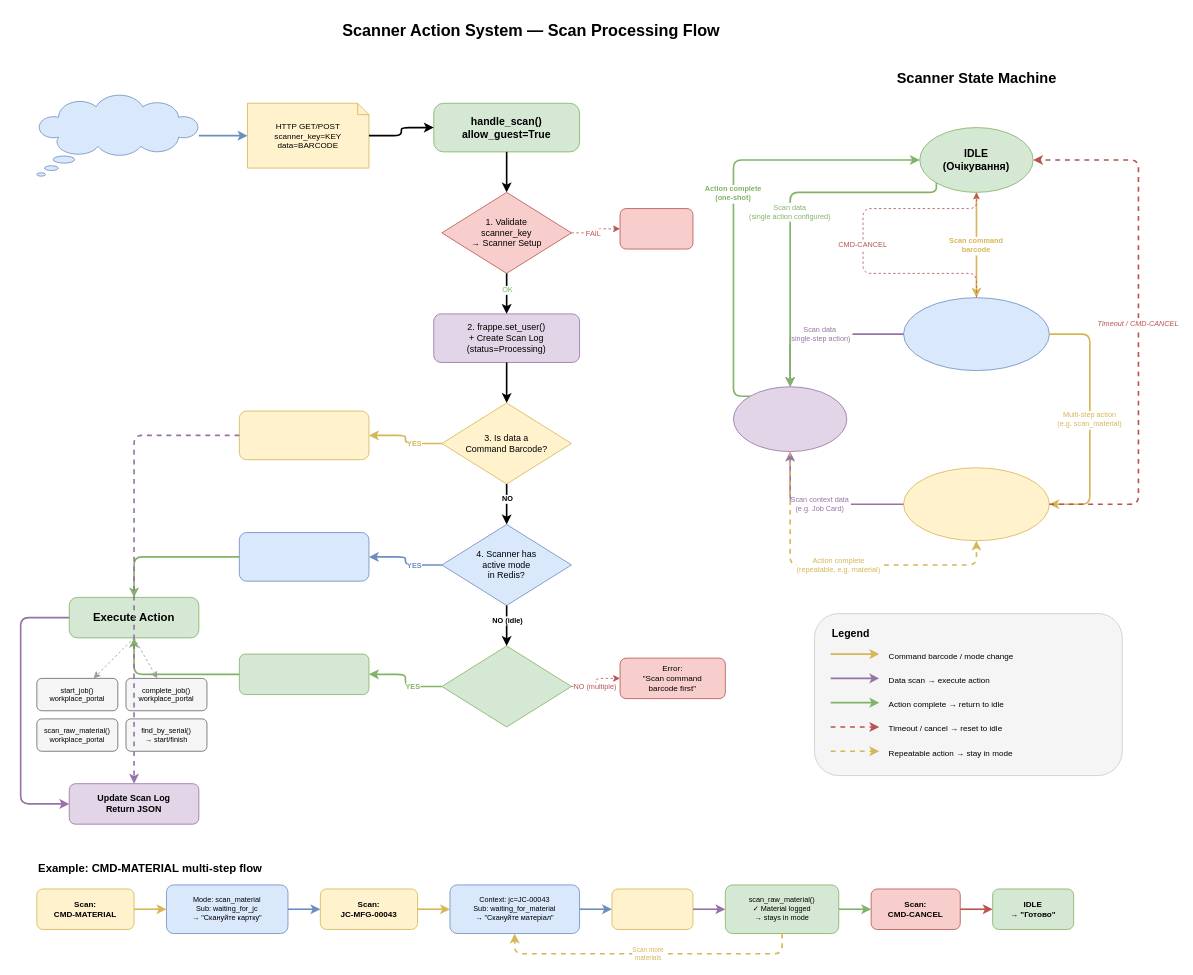
Some shapes in this 1193 by 975 pixel diagram are drawn without their labels. The centre of each missing label's shape, as x and y in pixels:
"403 Invalid key" belongs at (656,228).
"5. Idle: single configured action?" belongs at (506,686).
"EXECUTING (Виконання)" belongs at (790,419).
"MODE ACTIVE (Режим активний) e.g. finish_job_card" belongs at (976,334).
"Route to Mode Handler (see State Machine)" belongs at (304,556).
"Scan: ITEM-123" belongs at (652,908).
"Set mode in Redis (TTL = idle_timeout) Return prompt" belongs at (304,435).
"Use default action with scanned data" belongs at (304,674).
"WAITING FOR CONTEXT (sub_mode) e.g. waiting_for_jc" belongs at (976,504).
"🔫 Hardware Scanner (Апаратний сканер)" belongs at (117,135).
